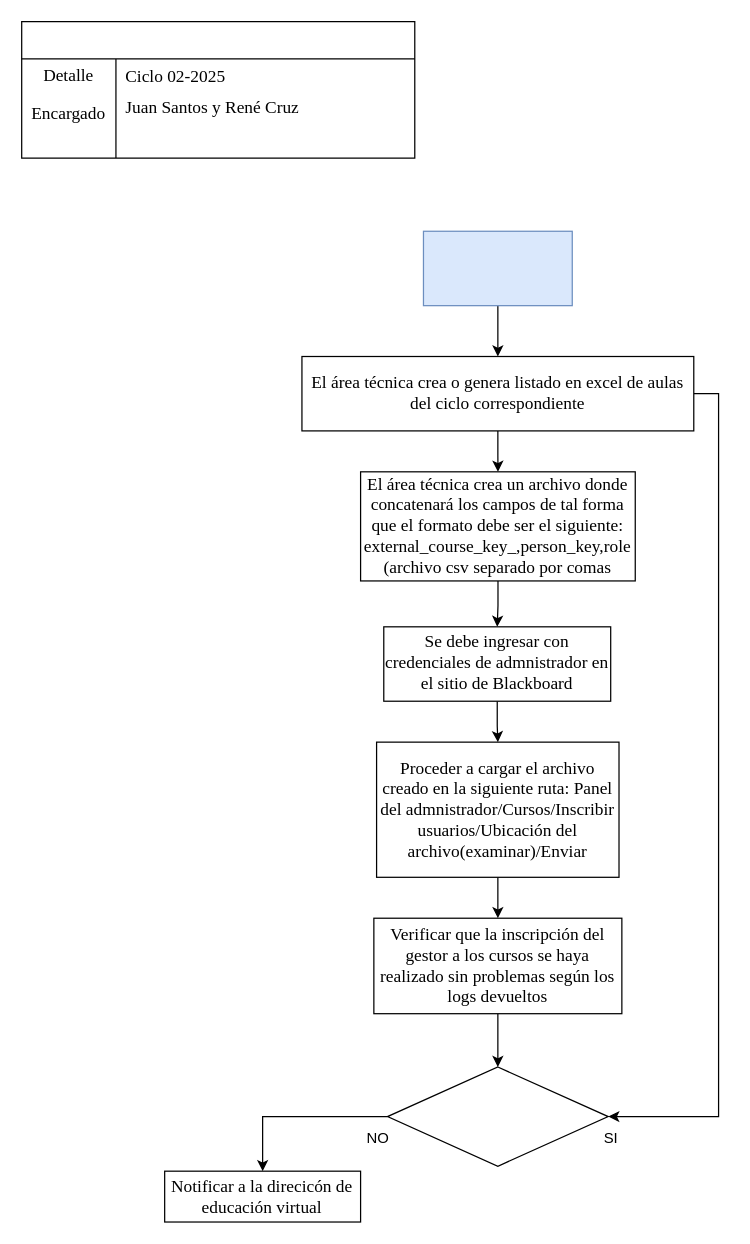
This 750x1244 diagram has some shape labels left out. Each missing label, with the box of its shape:
Asignación de usuario gestor utec: (422, 230, 572, 306)
Asignación de usuarios gestor utec Blakcboard: (20, 20, 415, 158)
¿Actualización?: (386, 1066, 608, 1166)
